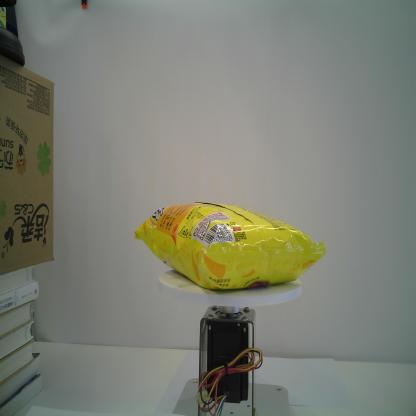Puffed Food: (135, 199, 326, 293)
